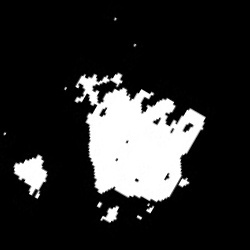pinhole: (96, 203, 102, 208), (3, 132, 6, 136), (114, 17, 117, 20), (64, 87, 67, 90), (134, 44, 137, 46)
spot: (75, 73, 204, 220), (13, 155, 46, 198)
